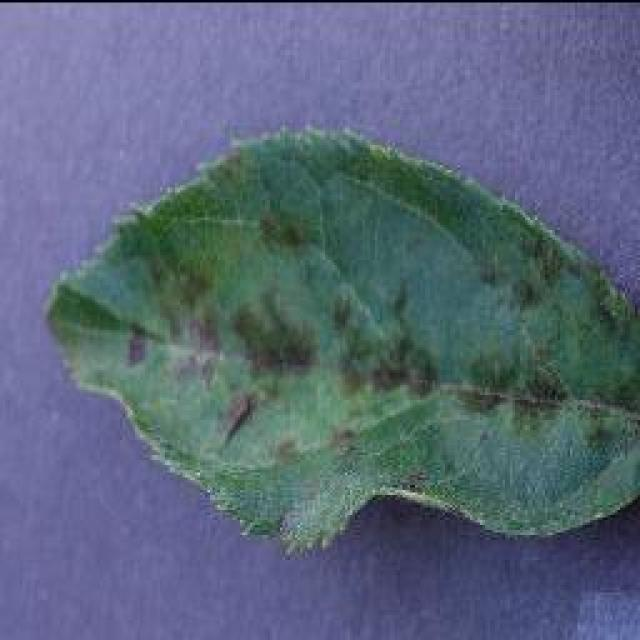apple scab disease: (42, 123, 638, 555)
